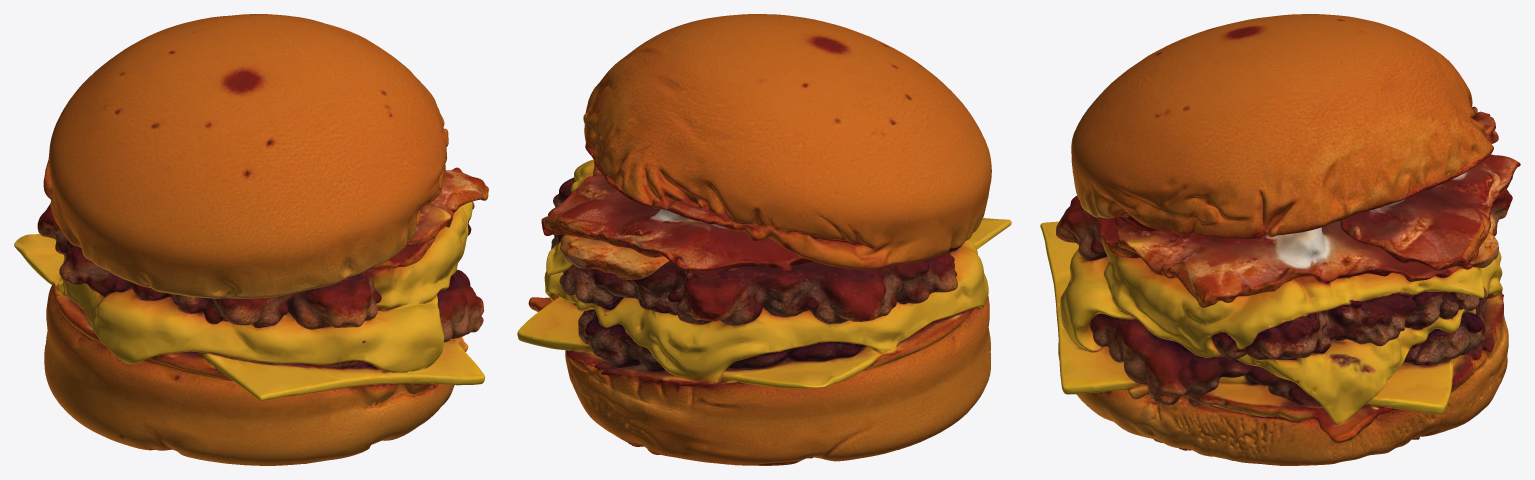
The model's file is gino-doble-hq.glb.
The picture shows the model from 3 angles, left to right: view 1: azimuth 30°, elevation 25°; view 2: azimuth 150°, elevation 25°; view 3: azimuth 270°, elevation 25°; orthographic projection. The views are drawn at different scales.
Visible parts, largest first — view 1: tripo_node_92563fd3-701f-459f-a1c2-6675a161a8d5; view 2: tripo_node_92563fd3-701f-459f-a1c2-6675a161a8d5; view 3: tripo_node_92563fd3-701f-459f-a1c2-6675a161a8d5.
Part boxes in pixels (x1,y1,x2,y2): tripo_node_92563fd3-701f-459f-a1c2-6675a161a8d5: (14,14,488,465); tripo_node_92563fd3-701f-459f-a1c2-6675a161a8d5: (517,14,1011,465); tripo_node_92563fd3-701f-459f-a1c2-6675a161a8d5: (1040,14,1520,465).
Size of the model in its own units: 0.9688 by 0.778 by 0.979.
Materials: 1 (1 with a texture image).
